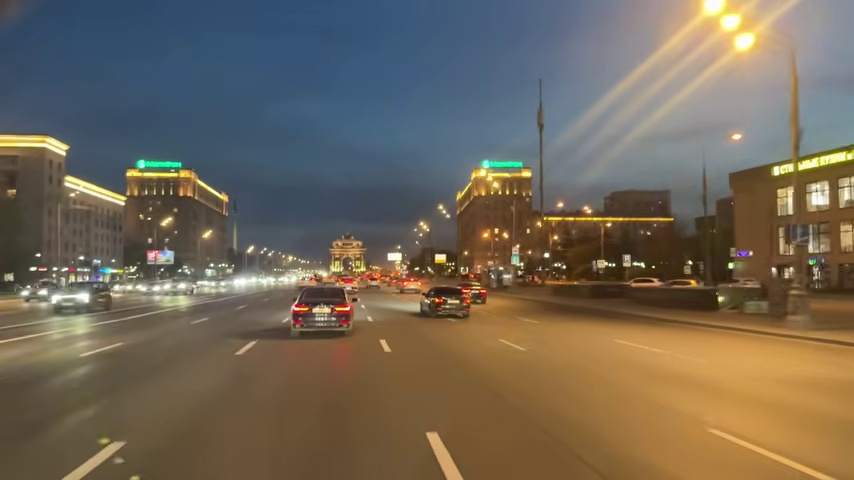acesa: (701, 4, 758, 57), (695, 0, 747, 32), (722, 14, 759, 55), (727, 129, 744, 145), (199, 229, 214, 243), (417, 221, 430, 236)
